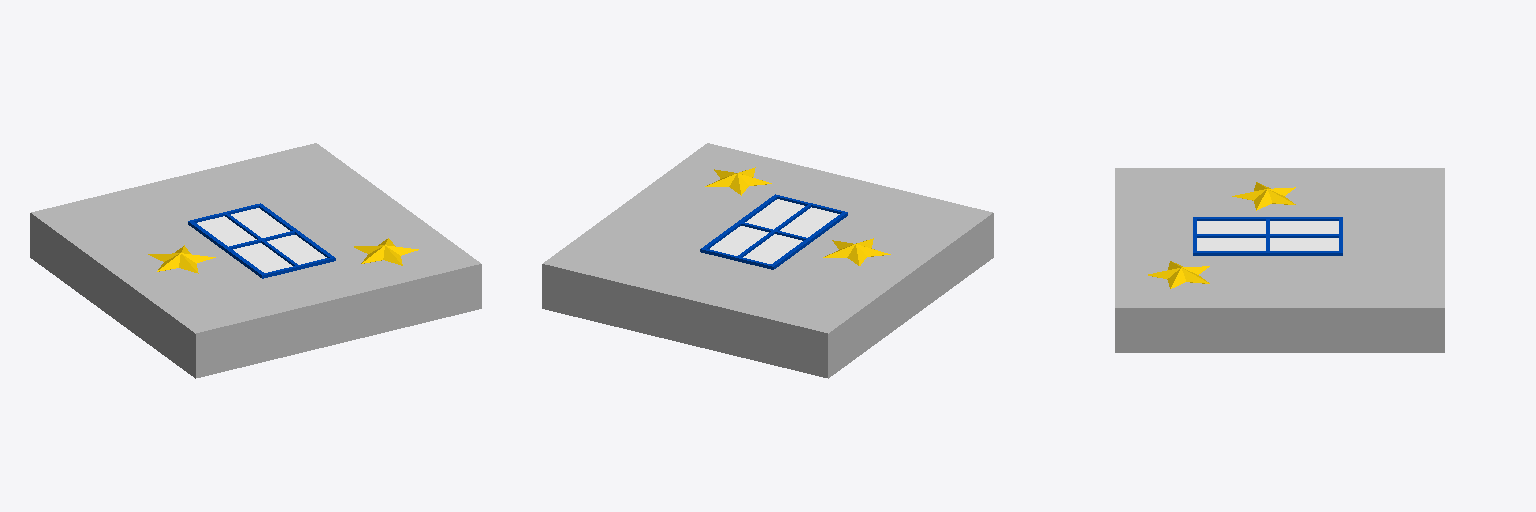
File: bedroom-wall.obj
The picture shows the model from 3 angles: view 1: azimuth 30°, elevation 25°; view 2: azimuth 150°, elevation 25°; view 3: azimuth 270°, elevation 25°; orthographic projection.
Parts seen in each view (by area): view 1: Star_01; view 2: Star_01; view 3: Star_01.
Part boxes in pixels (bbox=[...]): Star_01: bbox=[30, 143, 481, 378]; Star_01: bbox=[542, 143, 993, 378]; Star_01: bbox=[1115, 168, 1444, 352].
Bounding box in the file's own units: 2.65 × 0.4853 × 2.65.